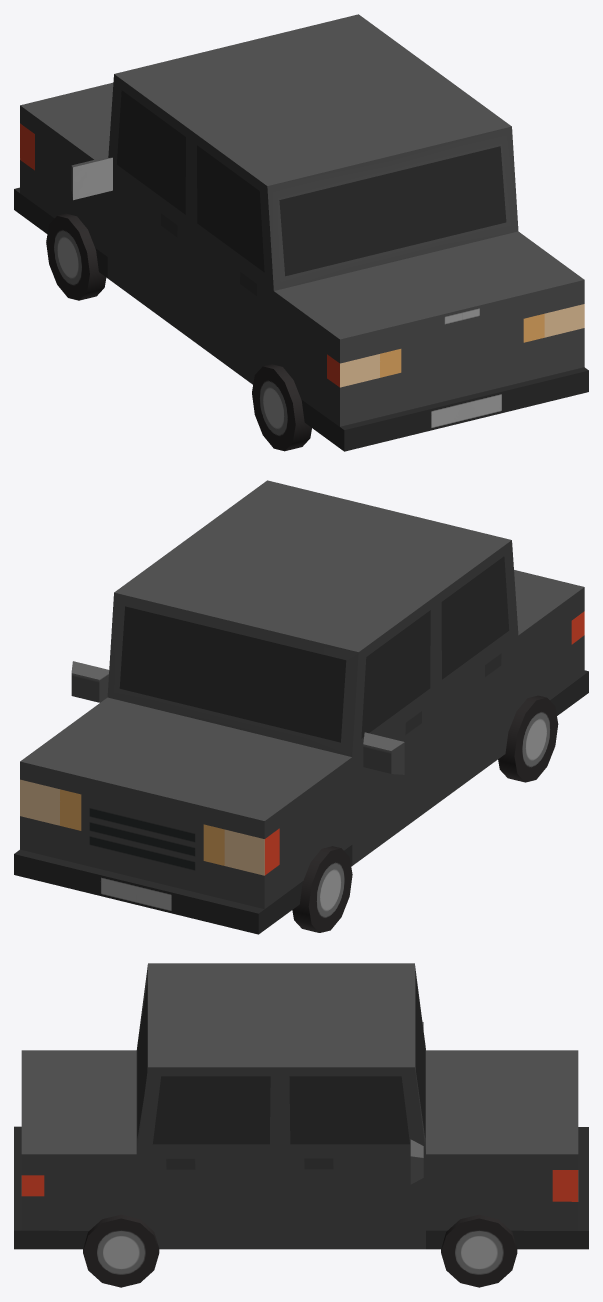
The model's file is sedanBlack.glb.
3 renders of one model, top to bottom at view 1: azimuth 30°, elevation 25°; view 2: azimuth 150°, elevation 25°; view 3: azimuth 270°, elevation 25°, orthographic. The views are drawn at different scales.
Visible parts, largest first — view 1: sedan_black_prefab; view 2: sedan_black_prefab; view 3: sedan_black_prefab.
Boxes of the visible parts, <box> form: sedan_black_prefab: <box>14,14,588,451</box>; sedan_black_prefab: <box>14,480,588,934</box>; sedan_black_prefab: <box>14,963,588,1287</box>.
Size of the model in its own units: 3.33 by 2.39 by 5.74.
1 material, 1 textured.
